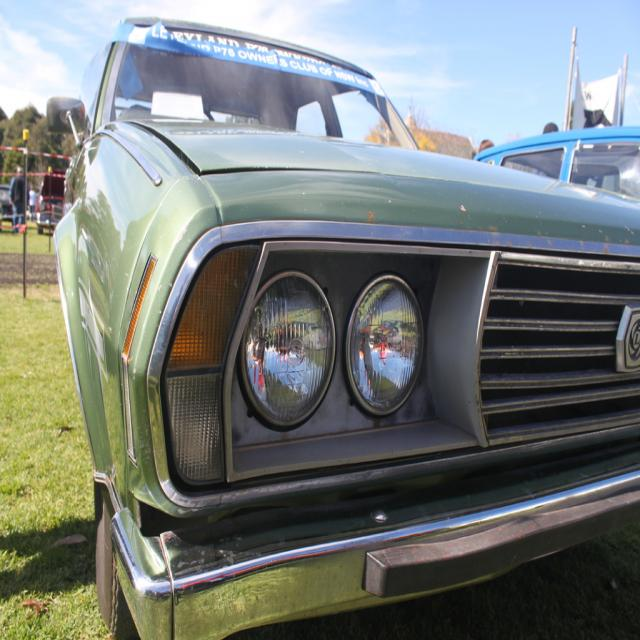other: (45, 7, 639, 639), (472, 124, 639, 198)
